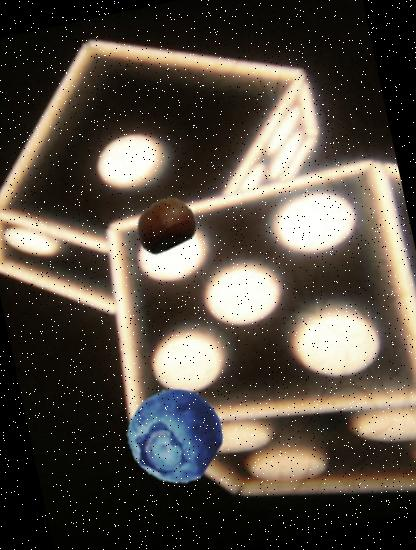Huckleberry: (118, 378, 232, 492)
Nut: (129, 189, 200, 260)
